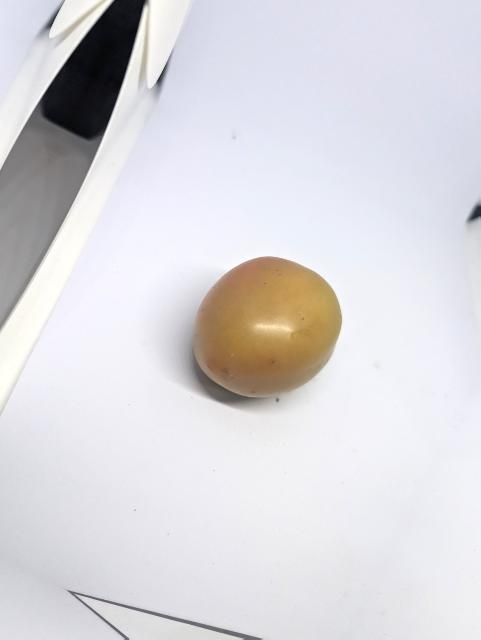turning: (188, 250, 347, 415)
